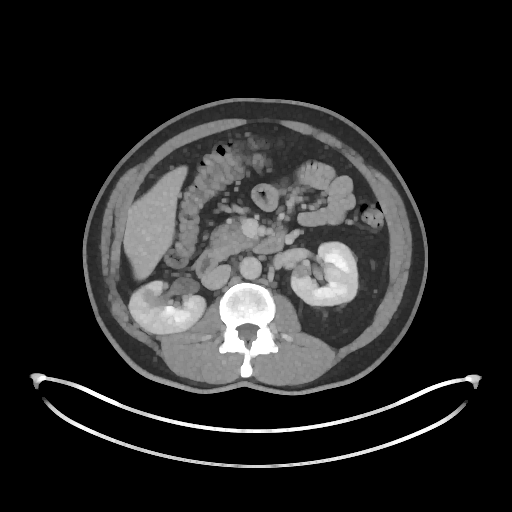Lesion: (290, 263, 312, 280)
